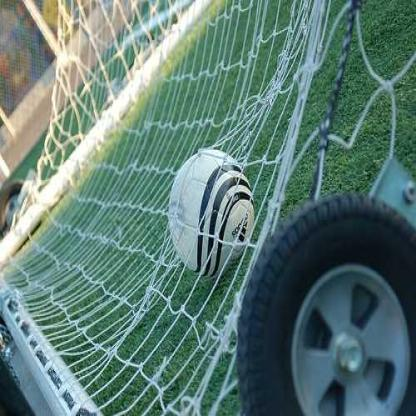ball: (168, 148, 255, 276)
